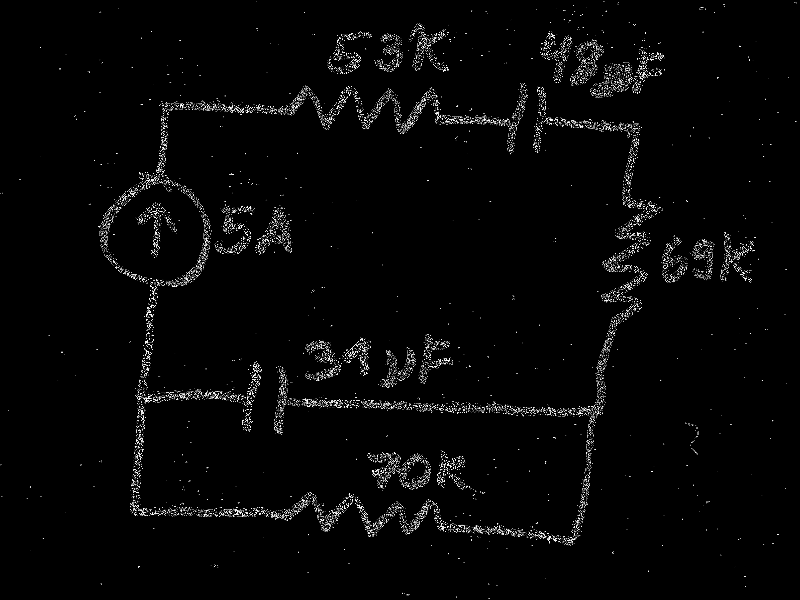0: (399, 454, 432, 490)
1: (342, 334, 374, 379)
3: (299, 339, 343, 382), (374, 32, 404, 74)
4: (537, 29, 571, 84)
5: (215, 202, 255, 256), (327, 32, 373, 75)
6: (658, 235, 690, 286)
7: (362, 449, 402, 493)
8: (570, 42, 604, 85)
9: (690, 238, 717, 282)
A: (256, 207, 294, 256)
F: (420, 333, 454, 387), (635, 48, 665, 96)
k: (408, 20, 452, 75), (718, 229, 756, 287), (437, 448, 469, 492)
u: (379, 346, 417, 387), (601, 63, 632, 98)
